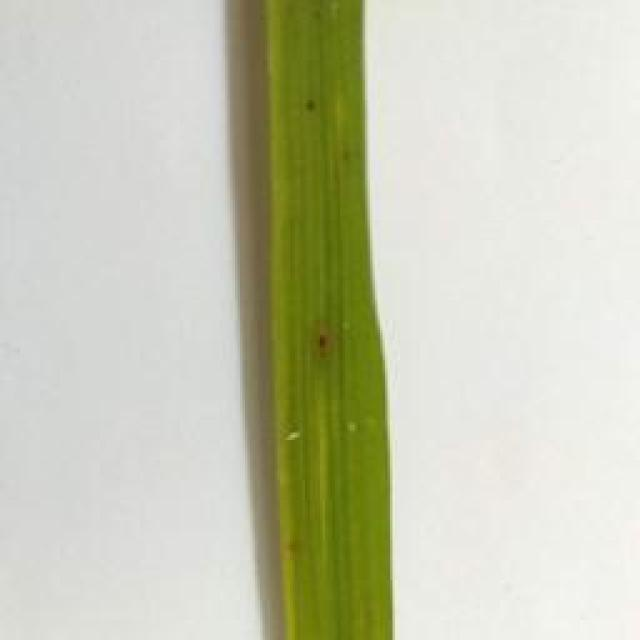Brown_Spot: (307, 308, 345, 383), (282, 523, 312, 572), (331, 145, 367, 173), (300, 98, 321, 122)
